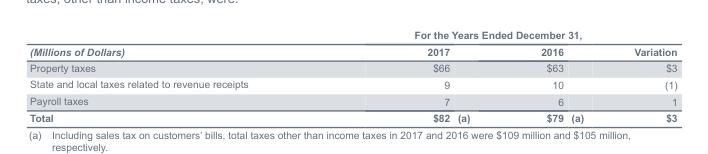table: (29, 28, 676, 123)
table column: (29, 28, 330, 123), (330, 28, 504, 123), (504, 28, 608, 123), (608, 28, 676, 123)
table column header: (29, 28, 676, 59)
table row: (29, 42, 676, 59), (29, 75, 676, 92), (29, 92, 676, 109), (29, 59, 676, 75), (29, 28, 676, 42), (29, 109, 676, 123)
table spanning cell: (29, 28, 330, 59), (330, 28, 676, 42)
